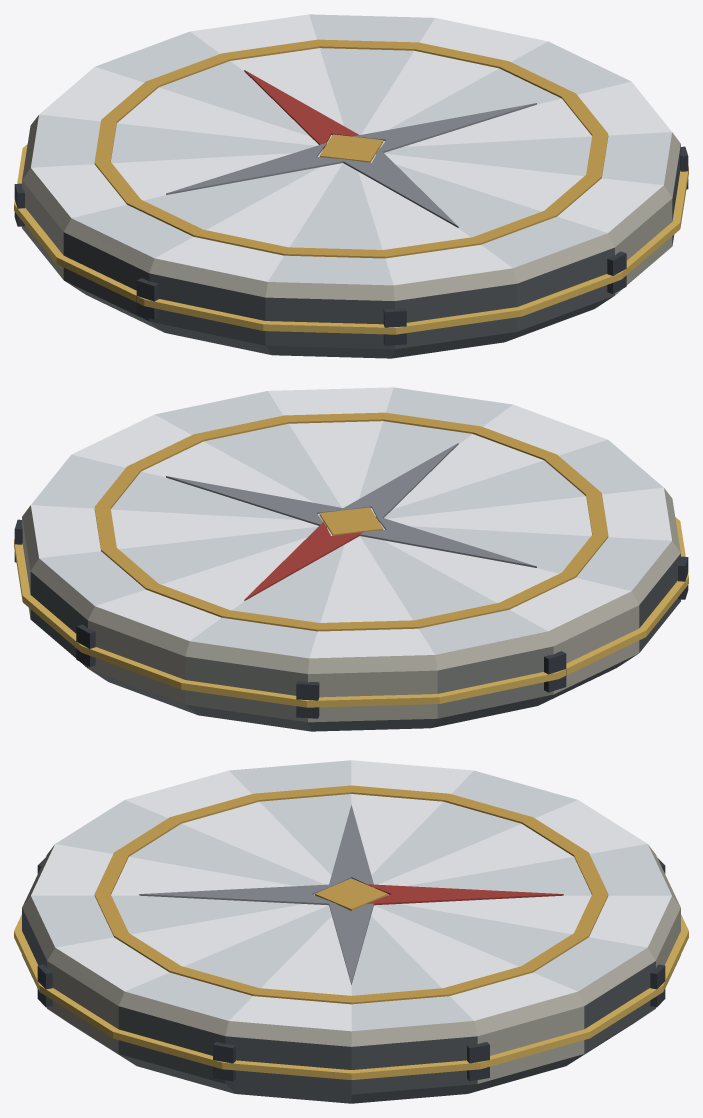
Rendered from AgilityPerch.obj.
3 views of the same model, one above another, from view 1: azimuth 30°, elevation 25°; view 2: azimuth 150°, elevation 25°; view 3: azimuth 270°, elevation 25° (orthographic).
Size of the model in its own units: 9.22 by 1.23 by 9.22.
